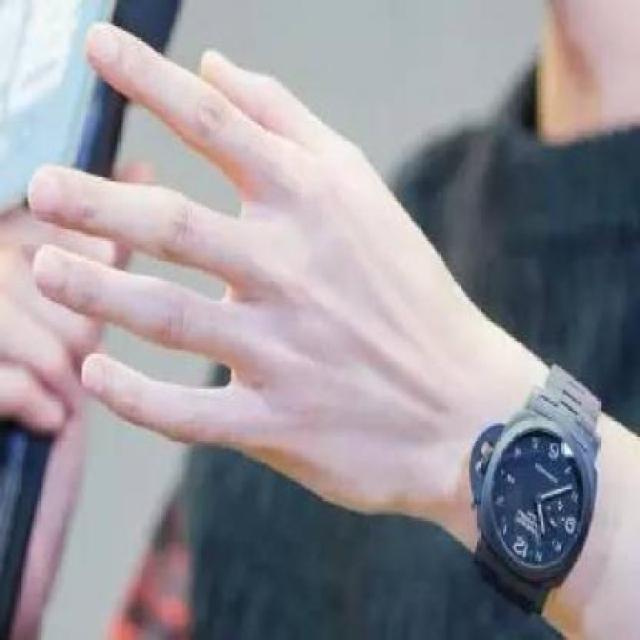hand_noglove: (28, 20, 460, 535), (0, 190, 122, 436)
